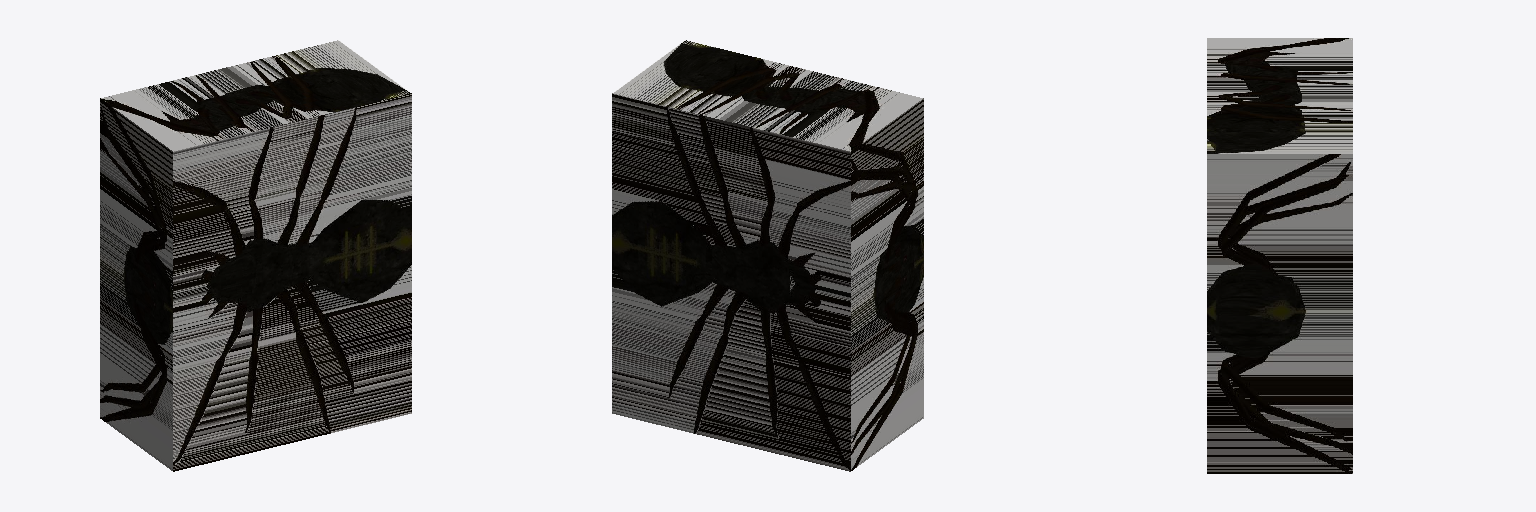
The picture shows the model from 3 angles: view 1: azimuth 30°, elevation 25°; view 2: azimuth 150°, elevation 25°; view 3: azimuth 270°, elevation 25°; orthographic projection.
Parts seen in each view (by area): view 1: 270, 180, up; view 2: 90, 180, up; view 3: 0, up.
Boxes of the visible parts, x1,y1,x2,y2 form: 270: [173, 93, 411, 471]; 180: [100, 98, 172, 470]; up: [101, 40, 410, 151]; 90: [612, 93, 850, 471]; 180: [851, 98, 923, 470]; up: [613, 40, 922, 151]; 0: [1207, 154, 1352, 473]; up: [1207, 38, 1352, 153].
Bounding box in the file's own units: 151 × 193 × 79.74.
6 materials, 5 textured.